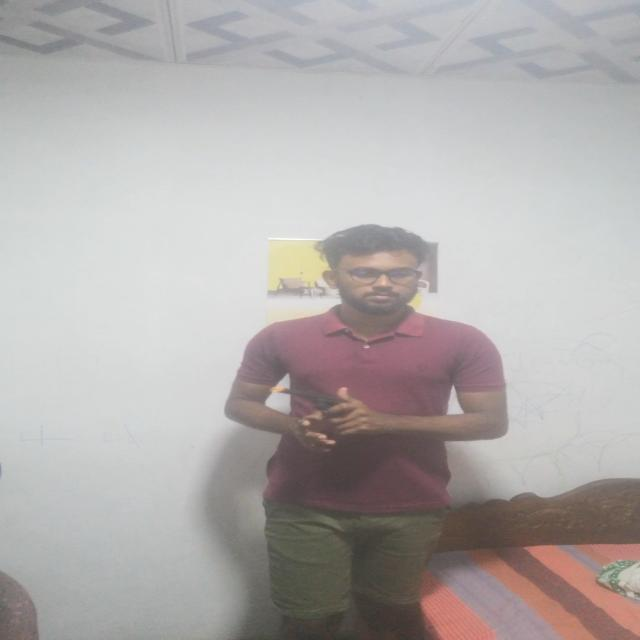Gun_Holder: (257, 379, 383, 435)
Person: (219, 226, 514, 640)
